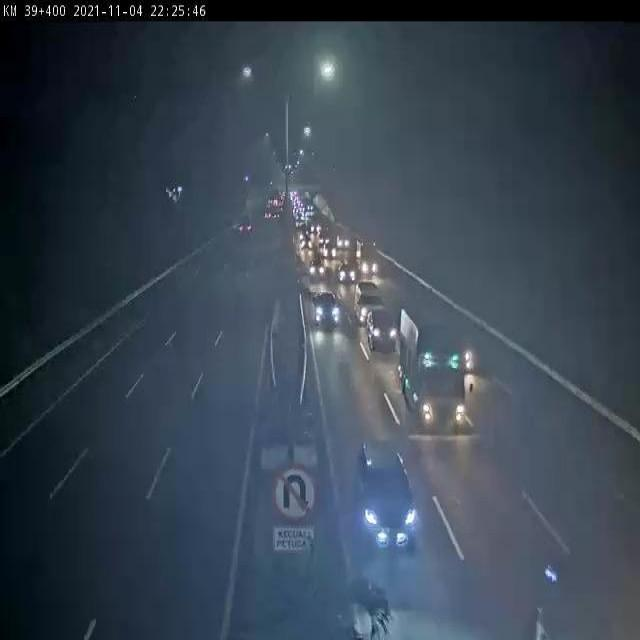car: (343, 437, 429, 559), (308, 288, 346, 345), (365, 304, 403, 353)
truck-s-: (395, 302, 470, 434)
